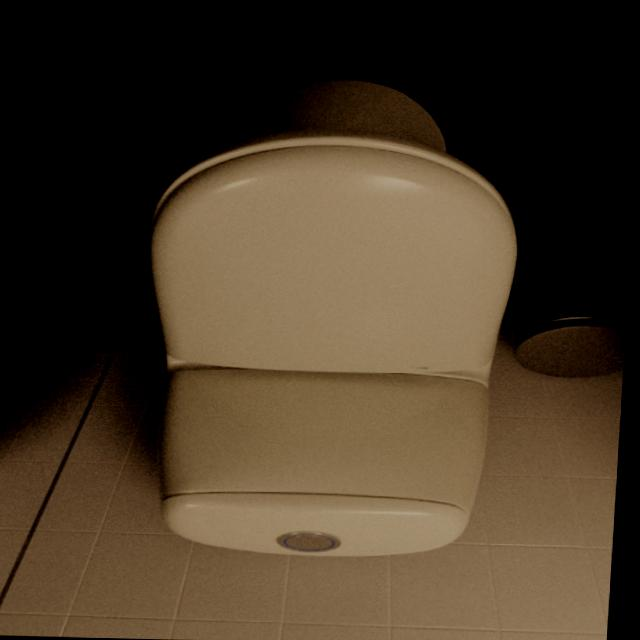toilet: (123, 63, 537, 567)
